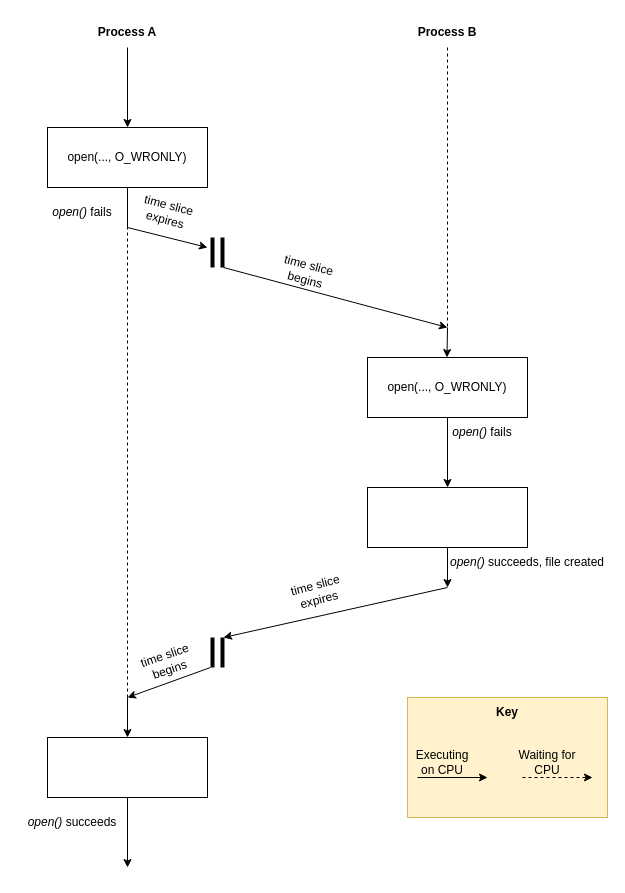
The diagram is 625 pixels wide and 893 high, and some of its shapes have lost their labels. Each missing label, with the centre of its shape:
"open(..., O_WRONLY | O_CREAT, ...)" belongs at [127,767].
"open(..., O_WRONLY, O_CREAT, ...)" belongs at [447,517].
